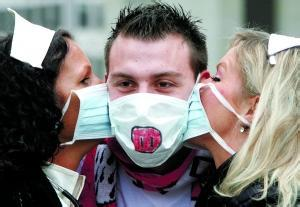OK: (107, 58, 202, 153), (191, 63, 260, 150), (57, 57, 110, 145)
